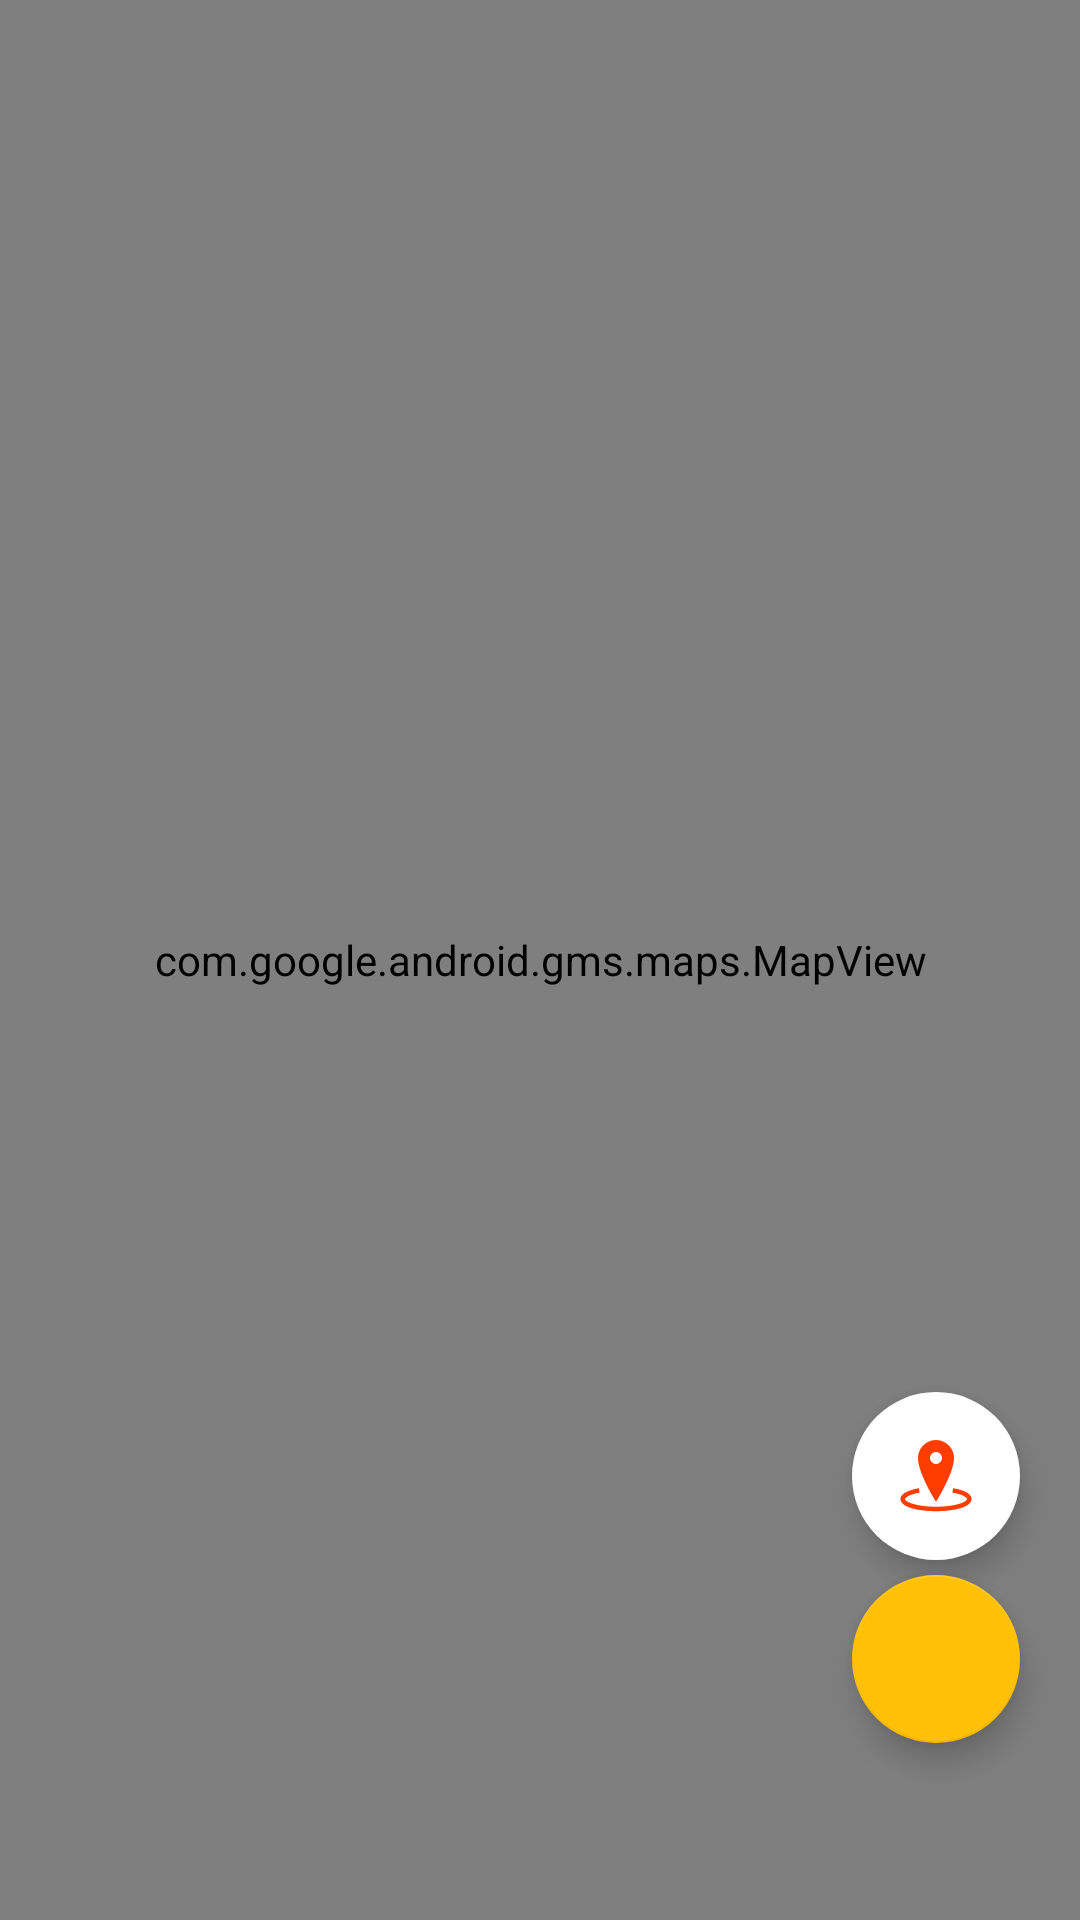

Where to tap for icons on this 1080×1920 app screen, as point (x, y):
place marker: point (936, 1476)
